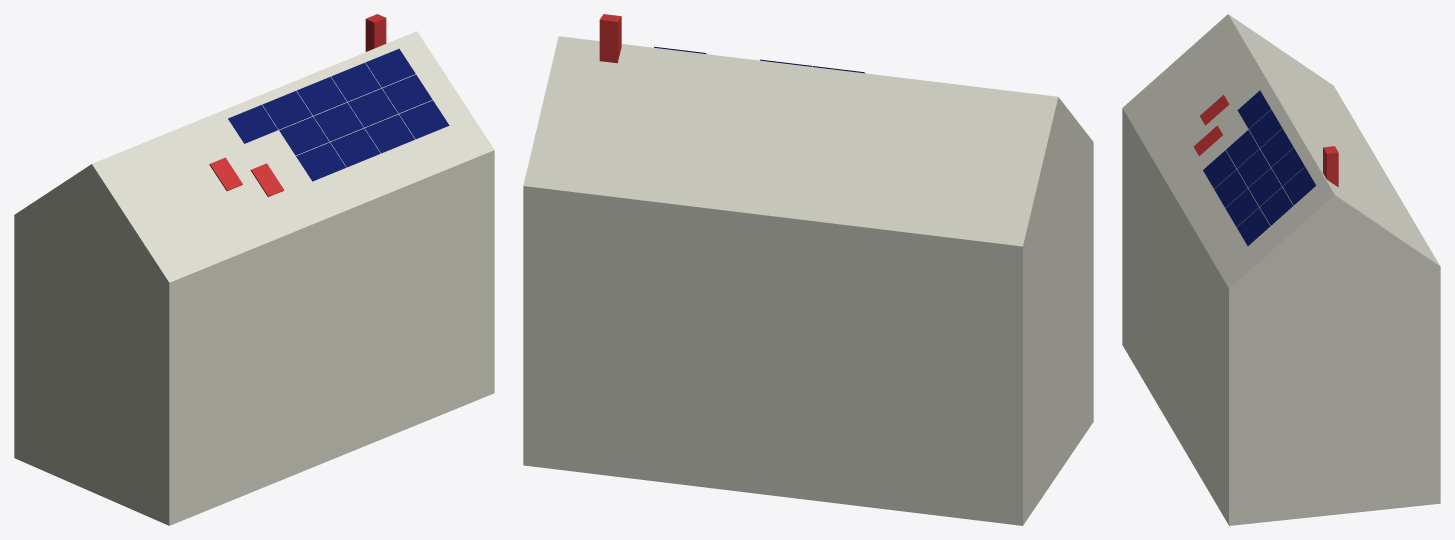
3 views of the same model, side by side, from view 1: azimuth 30°, elevation 25°; view 2: azimuth 150°, elevation 25°; view 3: azimuth 270°, elevation 25° (orthographic). The views are drawn at different scales.
Parts seen in each view (by area): view 1: House, PV_13_L_02, PV_13_L_11, PV_13_L_01, PV_13_L_08, PV_13_L_10, PV_13_L_05, PV_13_L_06, PV_13_L_09, PV_13_L_12, PV_13_L_03, PV_13_L_04 (+5 smaller); view 2: House, Chimney; view 3: House, PV_13_L_07, PV_13_L_09, PV_13_L_13, PV_13_L_02, PV_13_L_05, PV_13_L_08, PV_13_L_11, PV_13_L_06, PV_13_L_12, PV_13_L_01, PV_13_L_04 (+5 smaller).
Boxes of the visible parts, x1=… form: House: x1=14, y1=31, x2=494, y2=525; PV_13_L_02: x1=382, y1=74, x2=432, y2=113; PV_13_L_11: x1=279, y1=116, x2=329, y2=155; PV_13_L_01: x1=365, y1=48, x2=415, y2=87; PV_13_L_08: x1=313, y1=102, x2=363, y2=141; PV_13_L_10: x1=262, y1=91, x2=312, y2=129; PV_13_L_05: x1=348, y1=88, x2=397, y2=127; PV_13_L_06: x1=365, y1=114, x2=414, y2=153; PV_13_L_09: x1=330, y1=128, x2=380, y2=167; PV_13_L_12: x1=296, y1=142, x2=346, y2=181; PV_13_L_03: x1=399, y1=100, x2=449, y2=139; PV_13_L_04: x1=331, y1=63, x2=381, y2=101; House: x1=523, y1=36, x2=1093, y2=525; Chimney: x1=599, y1=14, x2=621, y2=63; House: x1=1122, y1=14, x2=1440, y2=525; PV_13_L_07: x1=1260, y1=128, x2=1293, y2=167; PV_13_L_09: x1=1214, y1=169, x2=1247, y2=207; PV_13_L_13: x1=1237, y1=90, x2=1270, y2=128; PV_13_L_02: x1=1260, y1=187, x2=1292, y2=225; PV_13_L_05: x1=1248, y1=168, x2=1281, y2=206; PV_13_L_08: x1=1237, y1=149, x2=1270, y2=187; PV_13_L_11: x1=1226, y1=130, x2=1259, y2=168; PV_13_L_06: x1=1225, y1=189, x2=1258, y2=226; PV_13_L_12: x1=1203, y1=150, x2=1236, y2=188; PV_13_L_01: x1=1283, y1=167, x2=1315, y2=205; PV_13_L_04: x1=1271, y1=148, x2=1304, y2=186.
Bounding box in the file's own units: 17.96 × 11.89 × 14.19.
